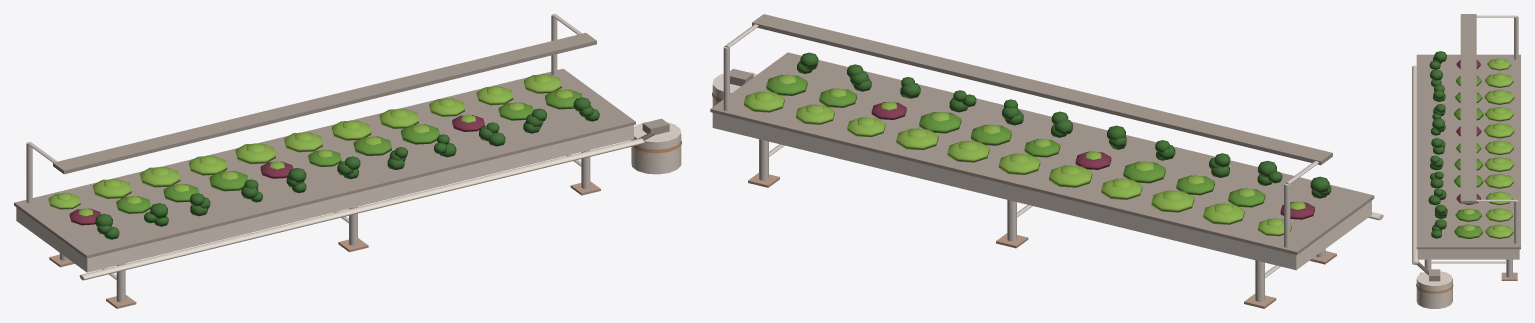
The model's file is D20_hydroponic_bed_4m.glb.
3 renders of one model, left to right at view 1: azimuth 30°, elevation 25°; view 2: azimuth 150°, elevation 25°; view 3: azimuth 270°, elevation 25°, orthographic. The views are drawn at different scales.
Visible parts, largest first — view 1: trough_rim, trough, led_housing, lettuce (×14), nutrient_pipe, nutrient_tank; view 2: trough_rim, lettuce (×19), trough, led_housing; view 3: trough_rim, lettuce (×17), led_housing, trough, nutrient_tank, nutrient_pipe, herb (×8), light_post (×2), light_arm (×2), leg_tie, pump, leg (+2 smaller).
Part boxes in pixels (left/top/right/bottom): trough_rim: left=14, top=68, right=635, bottom=258; trough: left=16, top=125, right=633, bottom=272; led_housing: left=53, top=33, right=596, bottom=174; lettuce (×14): left=93, top=74, right=582, bottom=198; nutrient_pipe: left=79, top=138, right=644, bottom=280; nutrient_tank: left=631, top=122, right=681, bottom=174; trough_rim: left=710, top=52, right=1374, bottom=254; lettuce (×19): left=744, top=74, right=1265, bottom=224; trough: left=712, top=113, right=1371, bottom=270; led_housing: left=752, top=14, right=1332, bottom=165; trough_rim: left=1416, top=54, right=1520, bottom=249; lettuce (×17): left=1454, top=59, right=1514, bottom=238; led_housing: left=1460, top=14, right=1476, bottom=203; trough: left=1417, top=249, right=1519, bottom=259; nutrient_tank: left=1416, top=271, right=1452, bottom=308; nutrient_pipe: left=1412, top=65, right=1418, bottom=264; herb (×8): left=1428, top=51, right=1446, bottom=229; light_post (×2): left=1514, top=16, right=1518, bottom=243; light_arm (×2): left=1476, top=15, right=1516, bottom=201; leg_tie: left=1430, top=261, right=1506, bottom=263; pump: left=1429, top=269, right=1440, bottom=281; leg: left=1506, top=259, right=1512, bottom=277.
Size of the model in its own units: 4.46 by 0.8625 by 0.96.
